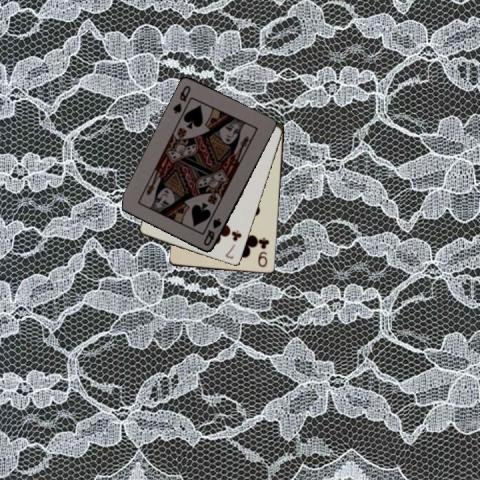7c: (223, 227, 243, 261)
9c: (256, 234, 270, 268)
Qs: (200, 215, 222, 248), (170, 82, 192, 114)
